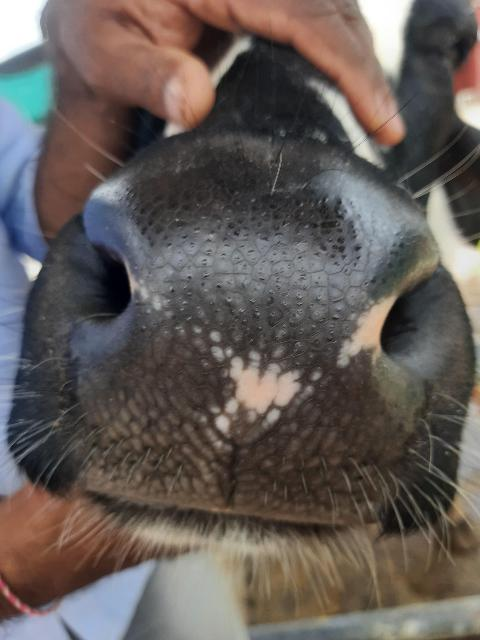Muzzle: (115, 176, 368, 522)
